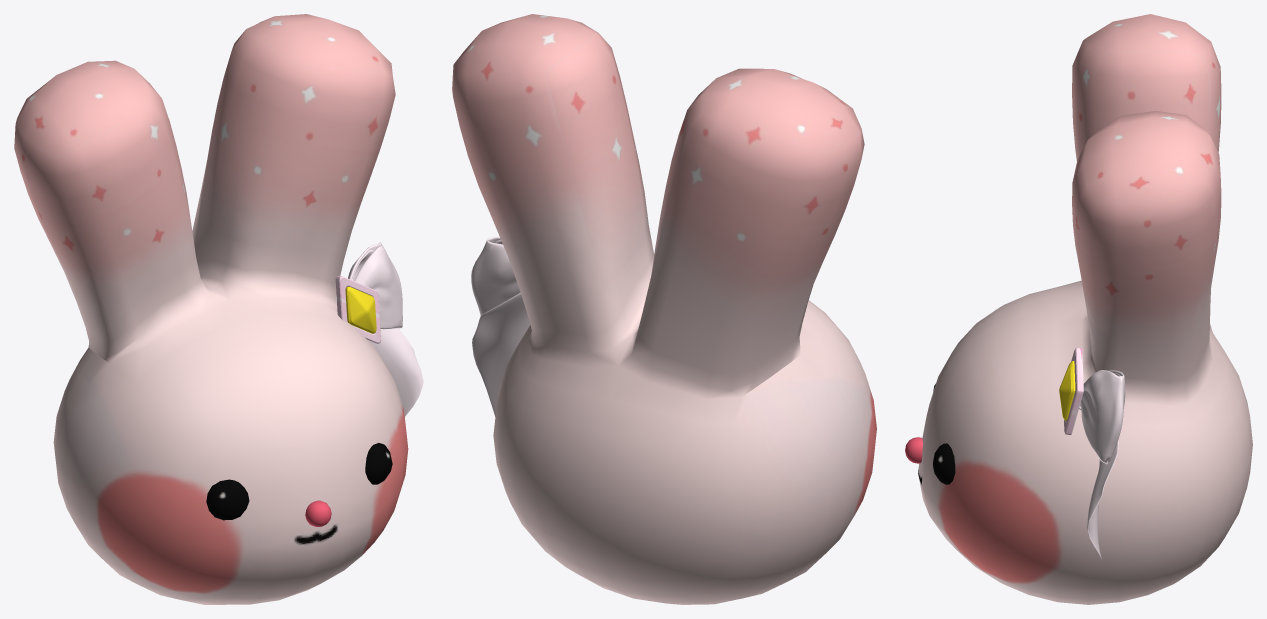
Rendered from jennieHead.fbx.
The picture shows the model from 3 angles, left to right: view 1: azimuth 30°, elevation 25°; view 2: azimuth 150°, elevation 25°; view 3: azimuth 270°, elevation 25°; orthographic projection. The views are drawn at different scales.
Visible parts, largest first — view 1: polySurface80; view 2: polySurface80; view 3: polySurface80.
Part boxes in pixels (x1,y1,x2,y2): polySurface80: (14,14,423,604); polySurface80: (452,14,876,604); polySurface80: (905,14,1252,604).
Size of the model in its own units: 646 by 854 by 529.
3 materials, 3 textured.
